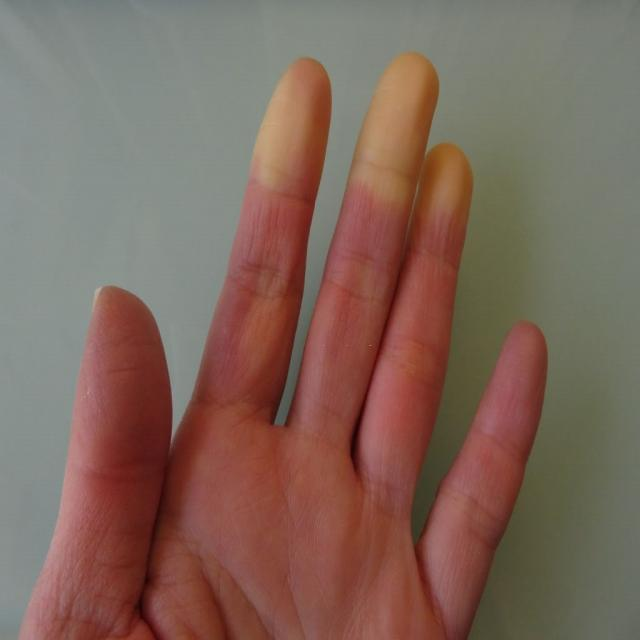raynauds: (254, 37, 486, 277)
